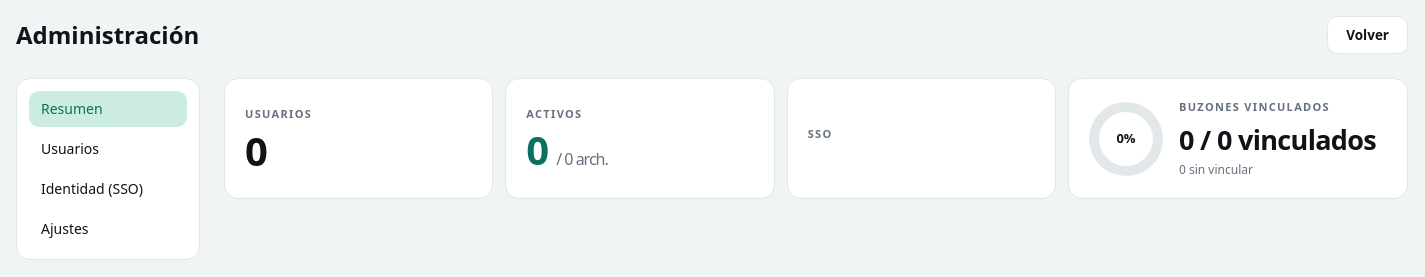
AdminPage instance settings panel (GH #86) › reflects the fetched value: checked when sentWithFooter is true
The width and height of the screenshot is (1425, 277).
Click the button "Ajustes": (108,229) [29,211,187,247]
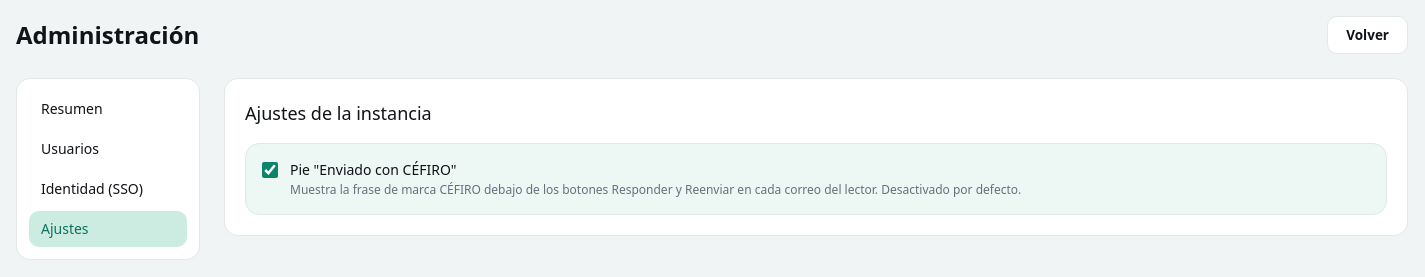
Expected: the checkbox labelled "Pie \"Enviado con CÉFIRO\"" is checked, [262,162,278,178]
